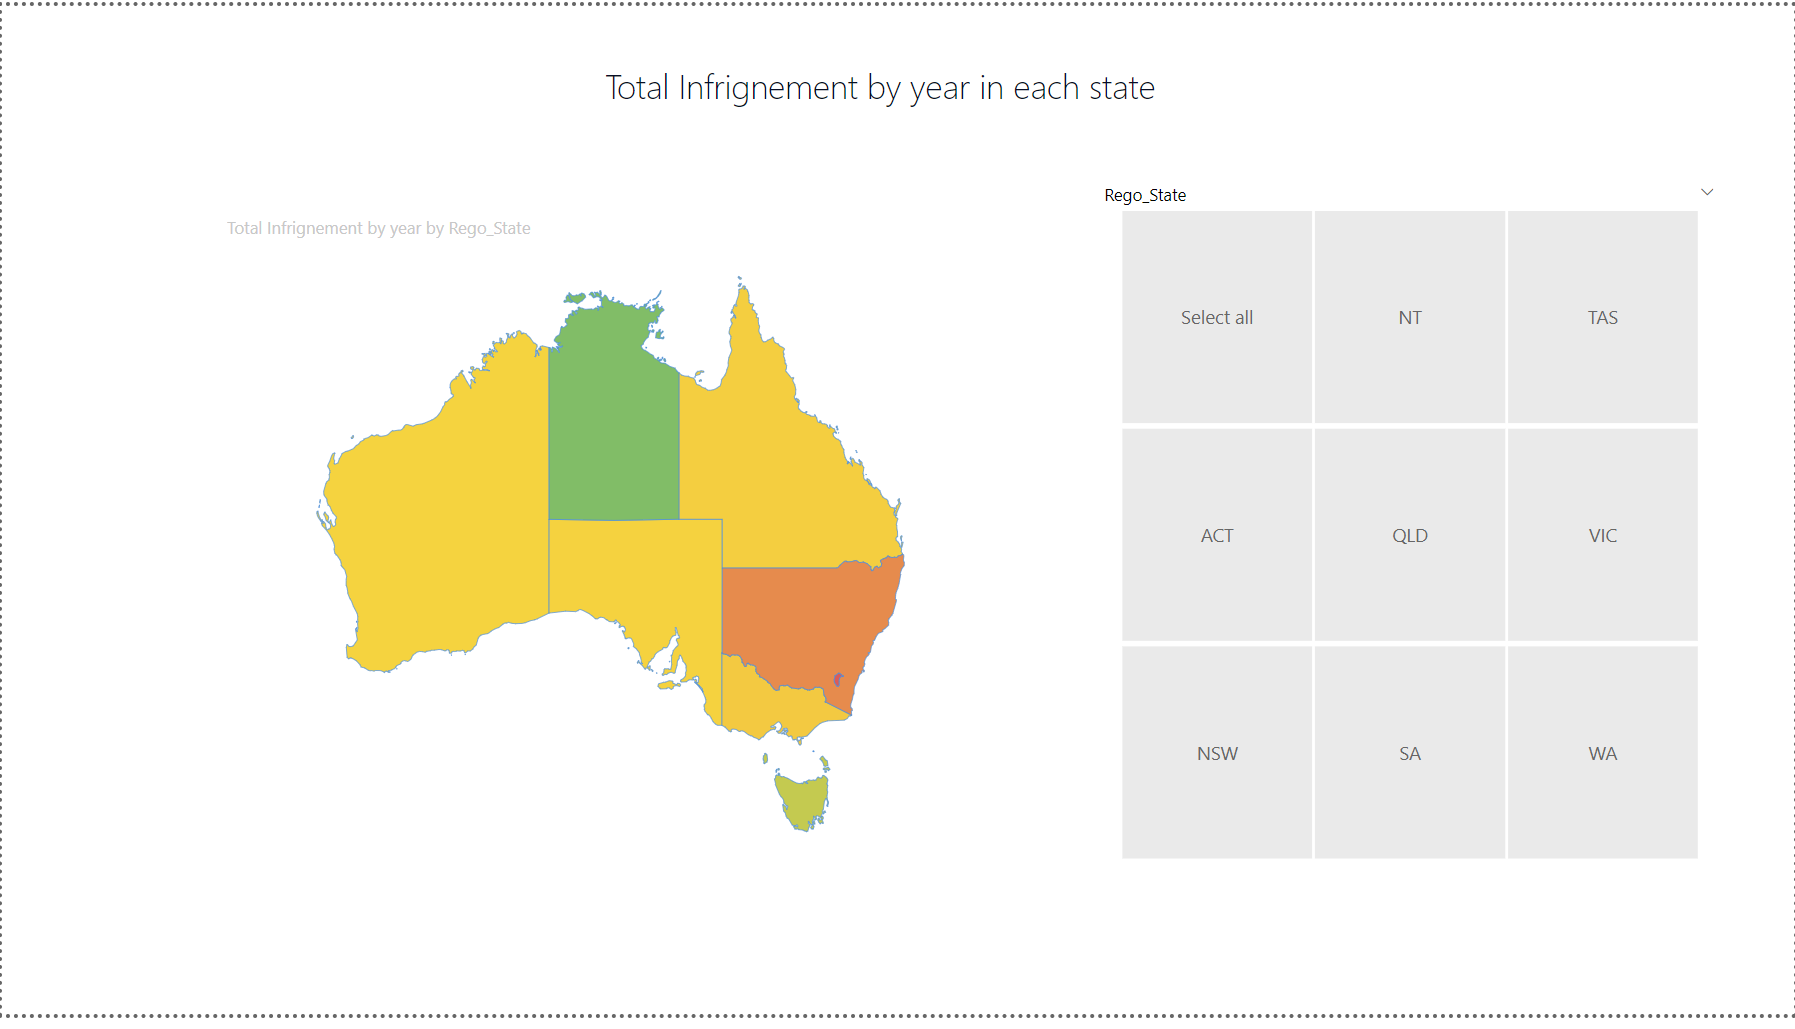

The page's visual inventory and layout, read from the dashboard file:
{"tool":"powerbi","page":{"name":"Infrignement Status in map","canvas":[1280,720],"ordinal":2},"visuals":[{"type":"shapeMap","fields":{"Category":["Traffic Offences & Fines.Rego_State"],"Value":["Traffic Offences & Fines.Total Infrignement by year"]},"box":[156.2,150.1,558.1,467.1],"z":0},{"type":"slicer","fields":{"Values":["Traffic Offences & Fines.Rego_State"]},"box":[775,121.3,461,494.4],"z":1000},{"type":"textbox","box":[426.2,36.4,426.2,59.1],"z":1001}]}

Visuals, with their boxes in screenshot pixels (x1, y1, x2, y2), scaled from the page's 1280x720 canvas onto the 1795x1029 screenshot:
shapeMap - Traffic Offences & Fines.Rego_State x Traffic Offences & Fines.Total Infrignement by year: l=219, t=215, r=1002, b=882
slicer - Traffic Offences & Fines.Rego_State: l=1087, t=173, r=1733, b=880
textbox: l=598, t=52, r=1195, b=136
